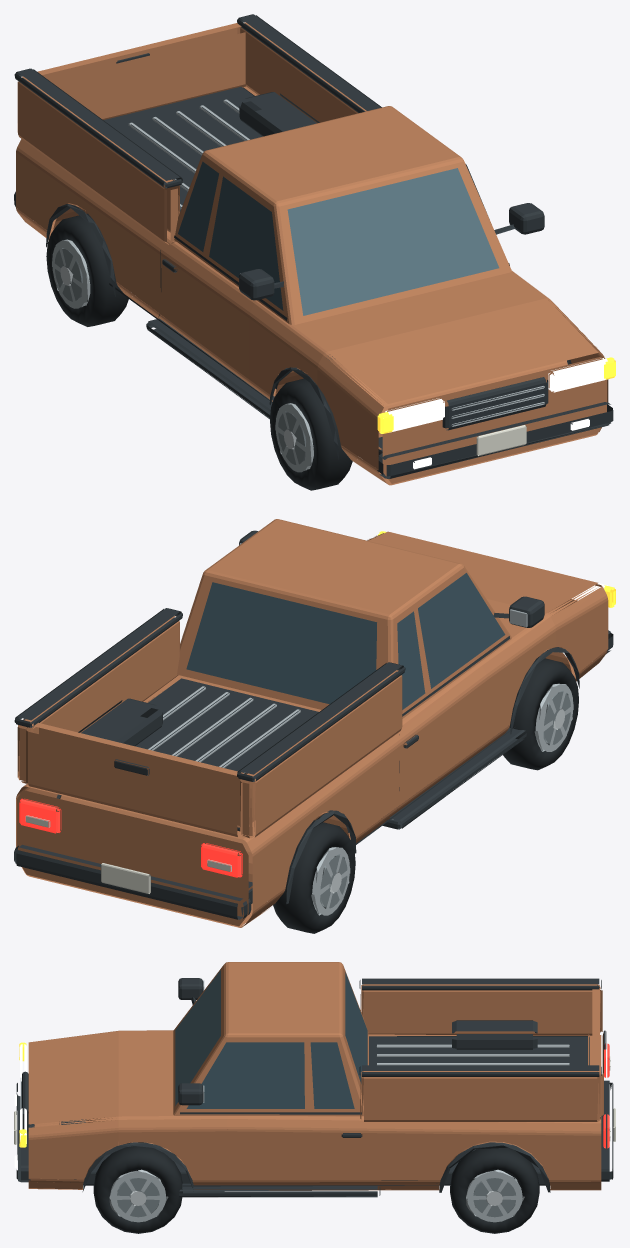
The model's file is pickup.glb.
3 views of the same model, one above another, from view 1: azimuth 30°, elevation 25°; view 2: azimuth 150°, elevation 25°; view 3: azimuth 270°, elevation 25° (orthographic). The views are drawn at different scales.
Visible parts, largest first — view 1: BodyMesh_Paint_Copper, BodyMesh_Trim_Graphite, ShapeSafe_BodyMesh_Paint_Copper, ShapeSafe_BodyMesh_Glass_Reflection, ShapeSafe_BodyMesh_Glass_StylizedOpaque, Wheel_FR.004_Mesh_Rubber_Tires, Wheel_RR.004_Mesh_Rubber_Tires, BodyMesh_Metal_SatinAluminum, ShapeSafe_BodyMesh_Trim_Graphite, Headlamp_L.004, Wheel_RR.004_Mesh_Metal_SatinAluminum, Wheel_FR.004_Mesh_Metal_SatinAluminum (+4 smaller); view 2: BodyMesh_Paint_Copper, BodyMesh_Trim_Graphite, ShapeSafe_BodyMesh_Glass_StylizedOpaque, ShapeSafe_BodyMesh_Paint_Copper, Wheel_RR.004_Mesh_Rubber_Tires, Wheel_FR.004_Mesh_Rubber_Tires, BodyMesh_Metal_SatinAluminum, BodyMesh_Plate_Bone, Wheel_RR.004_Mesh_Metal_SatinAluminum, Wheel_FR.004_Mesh_Metal_SatinAluminum, TailLamp_1.004, TailLamp_-1.004 (+3 smaller); view 3: BodyMesh_Paint_Copper, BodyMesh_Trim_Graphite, ShapeSafe_BodyMesh_Paint_Copper, ShapeSafe_BodyMesh_Glass_StylizedOpaque, Wheel_FL.004_Mesh_Rubber_Tires, Wheel_RL.004_Mesh_Rubber_Tires, ShapeSafe_BodyMesh_Glass_Reflection, BodyMesh_Metal_SatinAluminum, Wheel_FL.004_Mesh_Metal_SatinAluminum, Wheel_RL.004_Mesh_Metal_SatinAluminum, ShapeSafe_BodyMesh_Trim_Graphite, Wheel_RL.004_Mesh_Brake_Disc (+1 smaller).
Part boxes in pixels (box(x1,y1,x2,y2)): BodyMesh_Paint_Copper: box(16, 22, 608, 485); BodyMesh_Trim_Graphite: box(14, 14, 613, 478); ShapeSafe_BodyMesh_Paint_Copper: box(174, 106, 511, 324); ShapeSafe_BodyMesh_Glass_Reflection: box(287, 168, 499, 315); ShapeSafe_BodyMesh_Glass_StylizedOpaque: box(178, 161, 489, 310); Wheel_FR.004_Mesh_Rubber_Tires: box(270, 378, 352, 490); Wheel_RR.004_Mesh_Rubber_Tires: box(46, 213, 128, 326); BodyMesh_Metal_SatinAluminum: box(128, 99, 544, 426); ShapeSafe_BodyMesh_Trim_Graphite: box(239, 203, 544, 300); Headlamp_L.004: box(548, 357, 607, 392); Wheel_RR.004_Mesh_Metal_SatinAluminum: box(52, 239, 90, 308); Wheel_FR.004_Mesh_Metal_SatinAluminum: box(275, 403, 313, 472); BodyMesh_Paint_Copper: box(16, 531, 608, 927); BodyMesh_Trim_Graphite: box(14, 608, 613, 919); ShapeSafe_BodyMesh_Glass_StylizedOpaque: box(186, 573, 505, 709); ShapeSafe_BodyMesh_Paint_Copper: box(177, 519, 511, 718); Wheel_RR.004_Mesh_Rubber_Tires: box(273, 820, 355, 933); Wheel_FR.004_Mesh_Rubber_Tires: box(503, 657, 578, 770); BodyMesh_Metal_SatinAluminum: box(148, 543, 527, 773); BodyMesh_Plate_Bone: box(25, 815, 231, 893); Wheel_RR.004_Mesh_Metal_SatinAluminum: box(311, 847, 350, 915); Wheel_FR.004_Mesh_Metal_SatinAluminum: box(534, 683, 573, 751); TailLamp_1.004: box(19, 798, 61, 833); TailLamp_-1.004: box(201, 843, 242, 877); BodyMesh_Paint_Copper: box(28, 984, 603, 1190); BodyMesh_Trim_Graphite: box(16, 978, 613, 1197); ShapeSafe_BodyMesh_Paint_Copper: box(173, 962, 368, 1115); ShapeSafe_BodyMesh_Glass_StylizedOpaque: box(186, 972, 367, 1108); Wheel_FL.004_Mesh_Rubber_Tires: box(93, 1146, 182, 1233); Wheel_RL.004_Mesh_Rubber_Tires: box(450, 1147, 539, 1233); ShapeSafe_BodyMesh_Glass_Reflection: box(175, 970, 220, 1105); BodyMesh_Metal_SatinAluminum: box(20, 980, 569, 1108); Wheel_FL.004_Mesh_Metal_SatinAluminum: box(109, 1169, 168, 1222); Wheel_RL.004_Mesh_Metal_SatinAluminum: box(466, 1169, 524, 1222); ShapeSafe_BodyMesh_Trim_Graphite: box(178, 978, 203, 1105); Wheel_RL.004_Mesh_Brake_Disc: box(473, 1178, 515, 1217).
Bounding box in the file's own units: 2.48 × 1.91 × 5.52.
